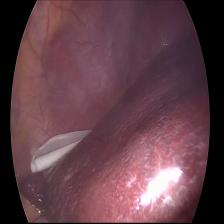Specimen Bag: (28, 127, 95, 181)
